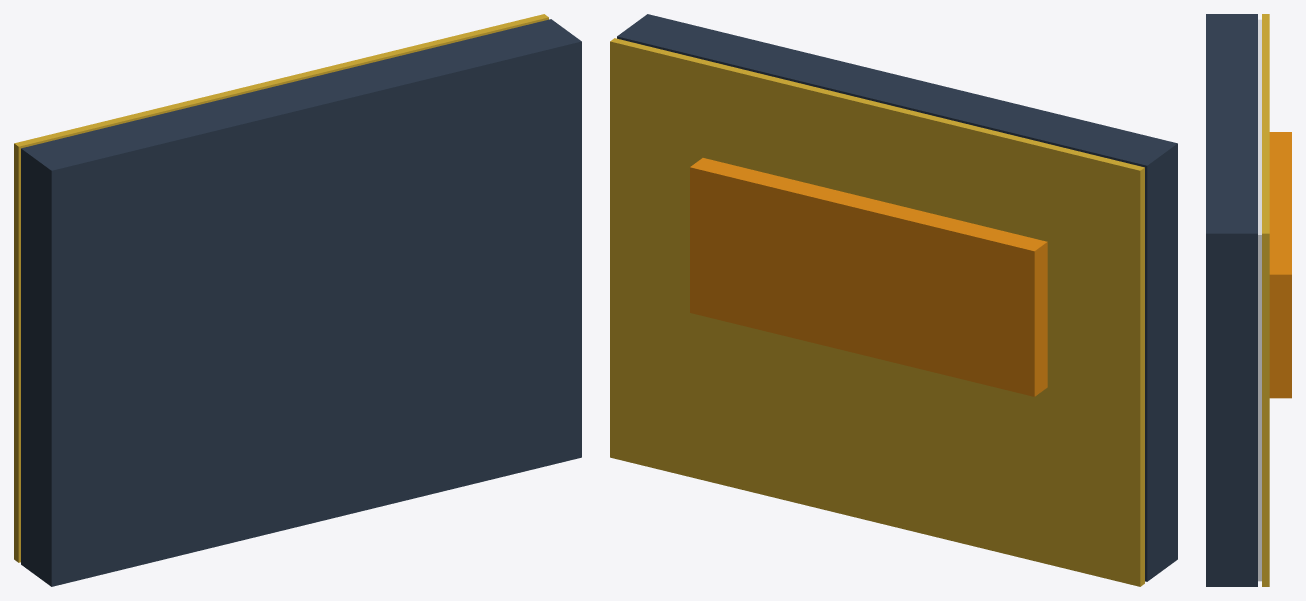
Rendered from Biển tên công ty inox ăn mòn 40 x 30.obj.
3 views of the same model, side by side, from view 1: azimuth 30°, elevation 25°; view 2: azimuth 150°, elevation 25°; view 3: azimuth 270°, elevation 25° (orthographic). The views are drawn at different scales.
Parts seen in each view (by area): view 1: Khung_Ket_Cau, Vien_Kim_Loai_Nẹp; view 2: Vien_Kim_Loai_Nẹp, Chu_Noi_3D_Logo, Khung_Ket_Cau; view 3: Khung_Ket_Cau, Chu_Noi_3D_Logo, Vien_Kim_Loai_Nẹp, Mat_Bang_Pano.
Part boxes in pixels (box(x1,y1,x2,y2)): Khung_Ket_Cau: box(21, 19, 581, 586); Vien_Kim_Loai_Nẹp: box(14, 14, 548, 562); Vien_Kim_Loai_Nẹp: box(610, 38, 1144, 586); Chu_Noi_3D_Logo: box(690, 158, 1047, 396); Khung_Ket_Cau: box(617, 14, 1177, 581); Khung_Ket_Cau: box(1206, 14, 1257, 586); Chu_Noi_3D_Logo: box(1269, 132, 1291, 398); Vien_Kim_Loai_Nẹp: box(1262, 14, 1269, 586); Mat_Bang_Pano: box(1258, 19, 1261, 581).
Bounding box in the file's own units: 0.4 × 0.3 × 0.066.
